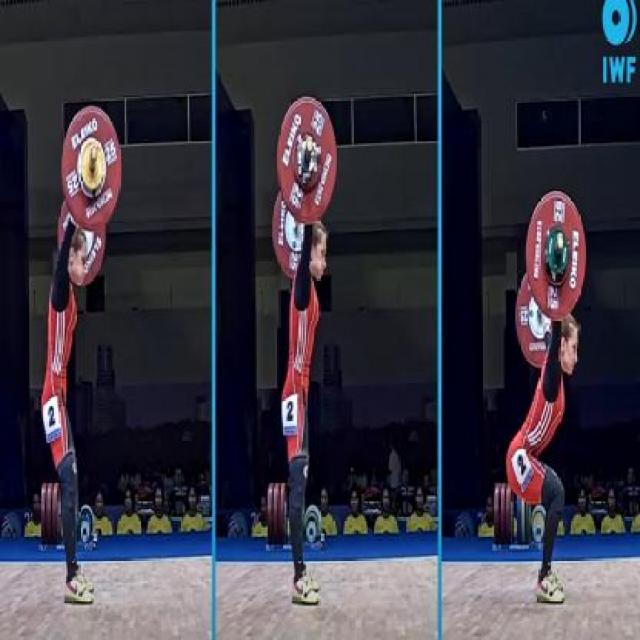Barbell: (304, 130, 316, 158), (88, 140, 99, 165), (556, 229, 566, 254)
